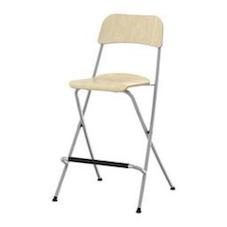chair: (41, 2, 191, 216)
